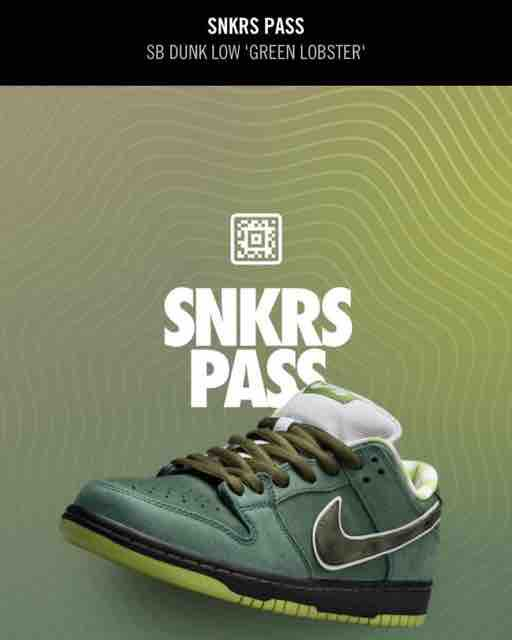Nike SB Dunk Green Lobster: (55, 337, 446, 635)
